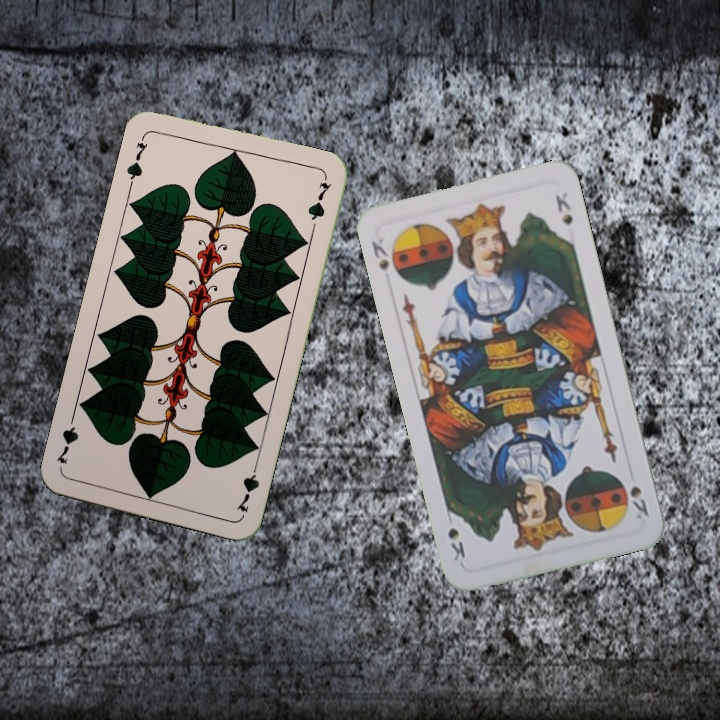G7: (122, 130, 151, 189), (233, 457, 262, 515)
SK: (626, 481, 651, 522), (367, 234, 392, 273)
